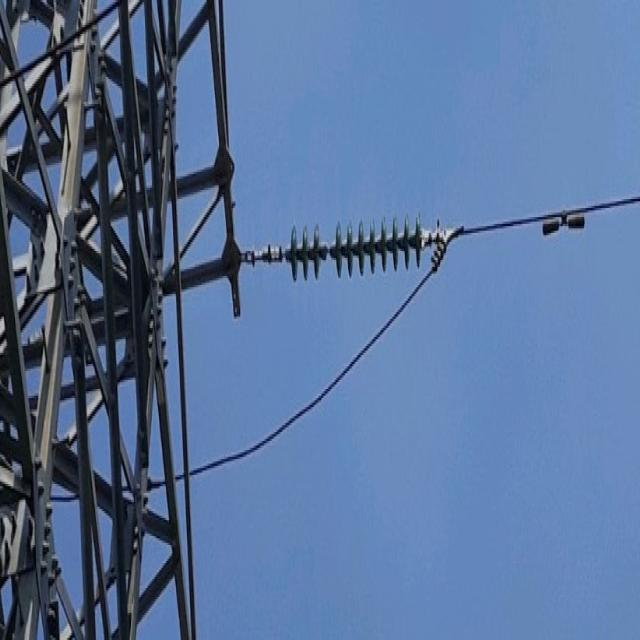杆塔: (0, 0, 252, 640)
正常电缆: (278, 202, 432, 285)
绝缘子破损: (322, 236, 333, 263)
